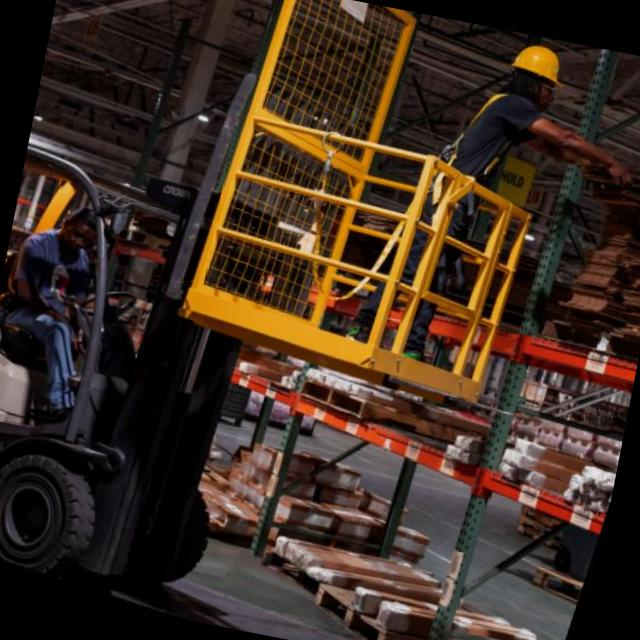driver: (0, 177, 146, 428)
forklift: (0, 0, 422, 634)
person: (371, 16, 640, 385)
